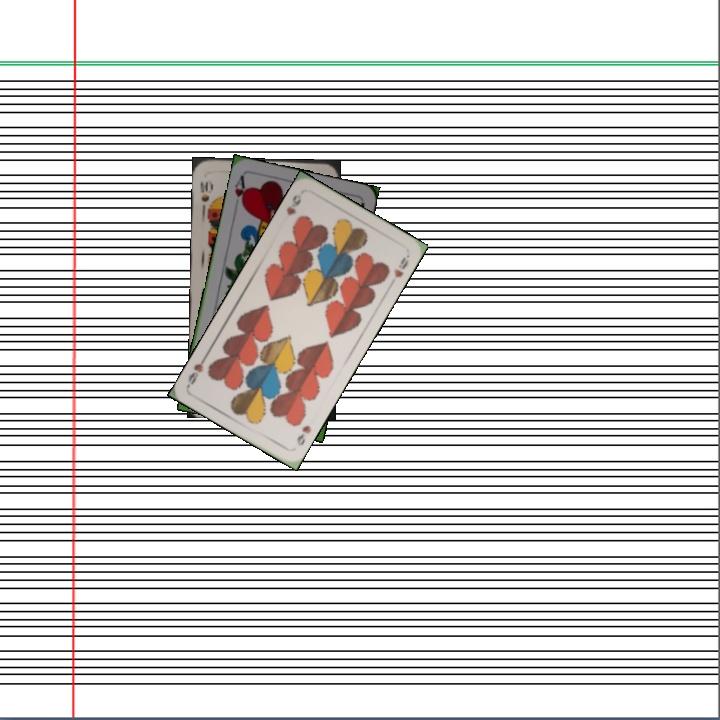H9: (282, 190, 304, 219), (293, 421, 314, 448)
HA: (230, 172, 250, 212)
S10: (196, 177, 212, 213)
